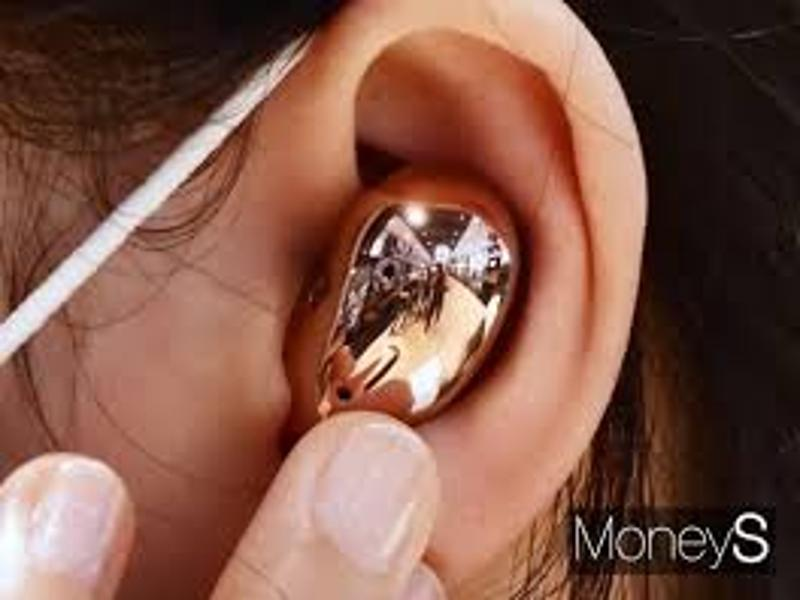headphone: (280, 158, 525, 445)
